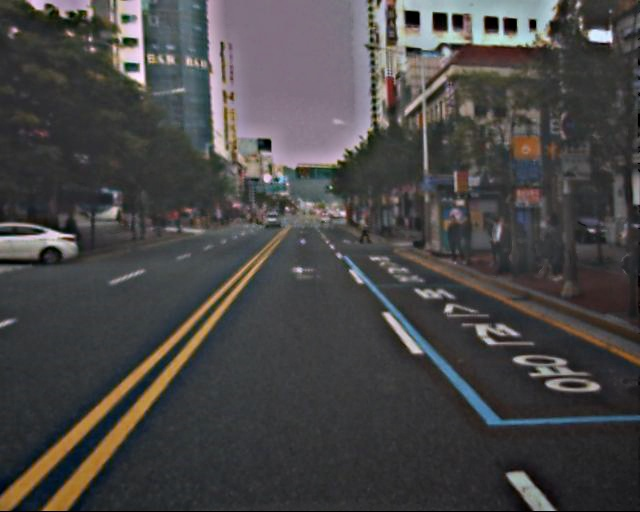person: (531, 216, 567, 282), (612, 211, 640, 293), (483, 214, 515, 275), (457, 213, 480, 268), (445, 214, 466, 264), (358, 210, 373, 246)
